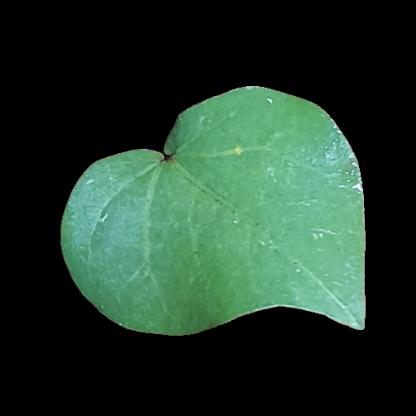healthy: (130, 161, 357, 307), (207, 104, 331, 163), (82, 182, 128, 306)
